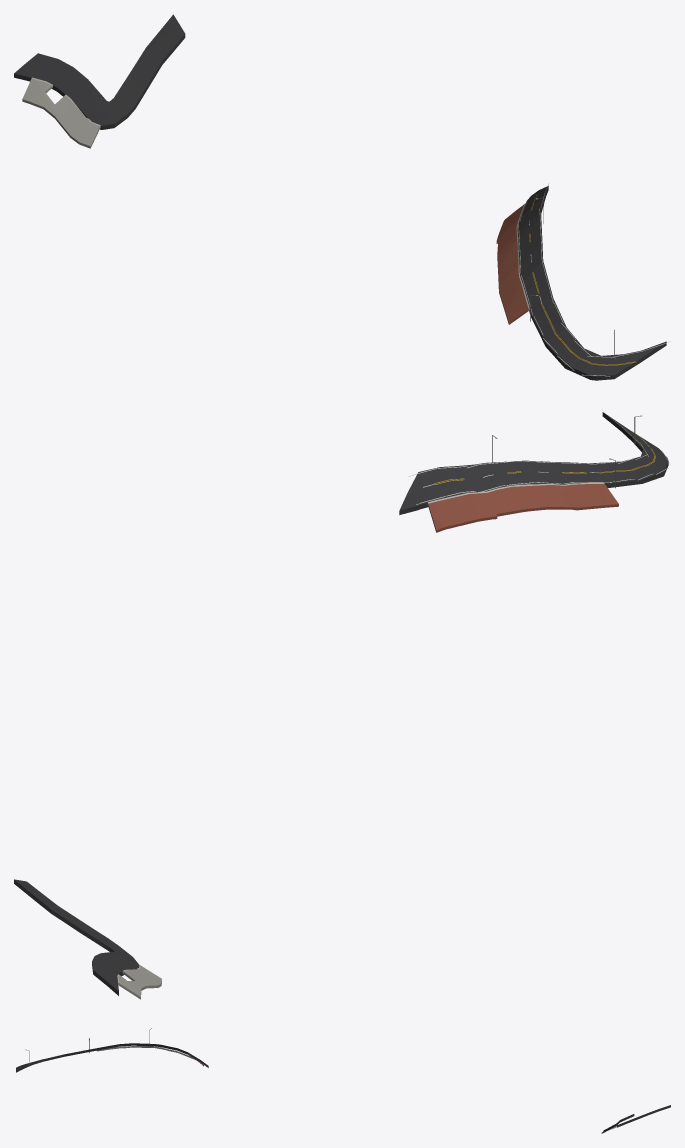
3 renders of one model, top to bottom at view 1: azimuth 30°, elevation 25°; view 2: azimuth 150°, elevation 25°; view 3: azimuth 270°, elevation 25°, orthographic. The views are drawn at different scales.
Size of the model in its own units: 42.65 by 61.55 by 292.
